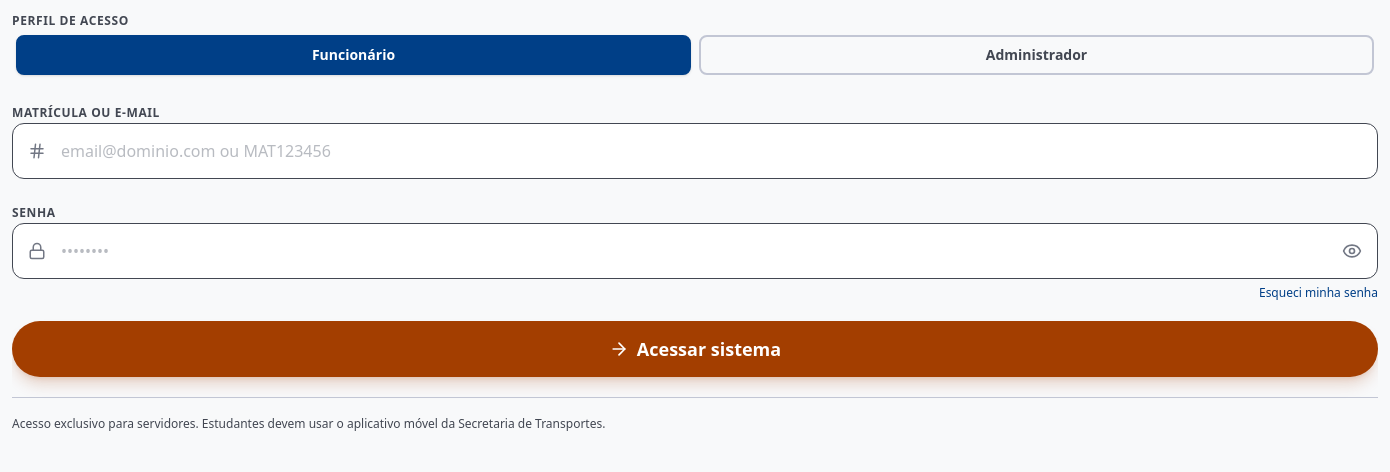
Test: EmployeeAdminLoginForm › deve validar dados antes de enviar quando login esta vazio
Type "Senha123" into the password field with placeholder "••••••••" at [695, 251], box left=12, top=223, right=1378, bottom=279
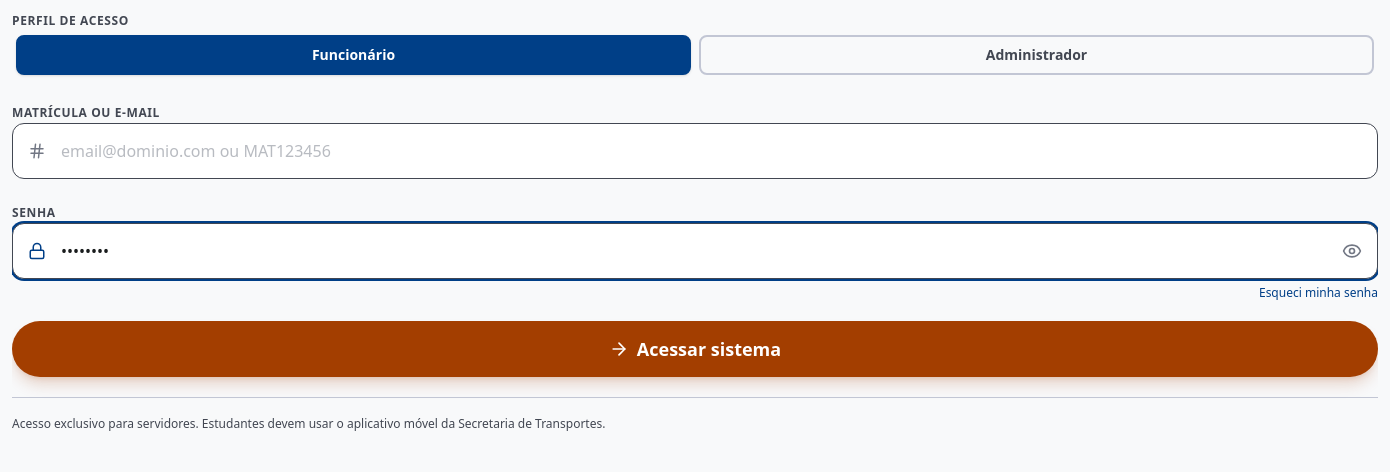
Click the button "Acessar sistema" at [695, 349], box left=12, top=321, right=1378, bottom=377
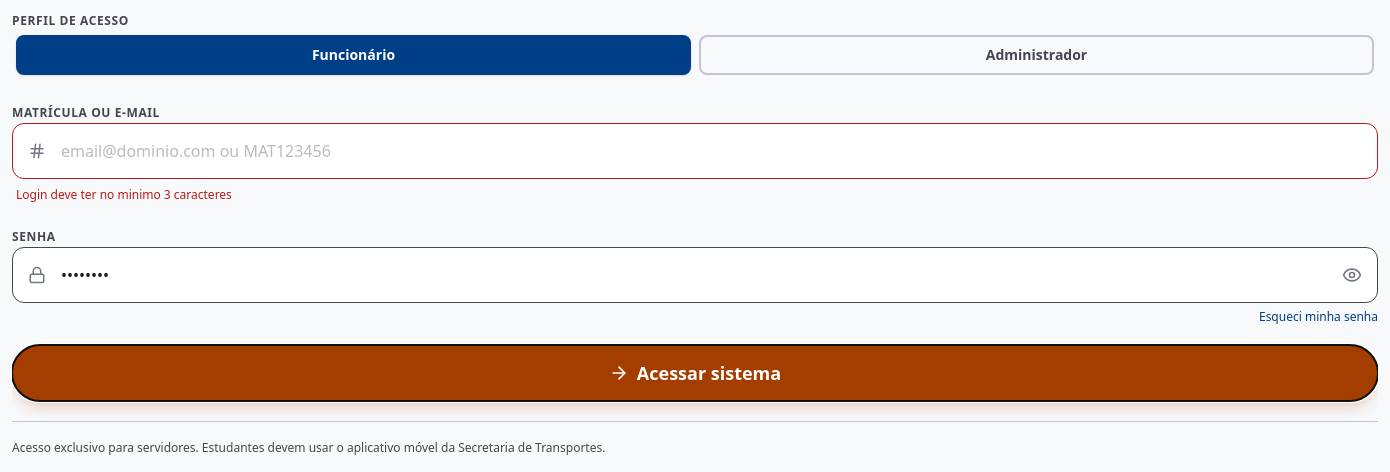
Expected: the text "Login deve ter no minimo 3 caracteres" is shown, left=16, top=186, right=232, bottom=203
